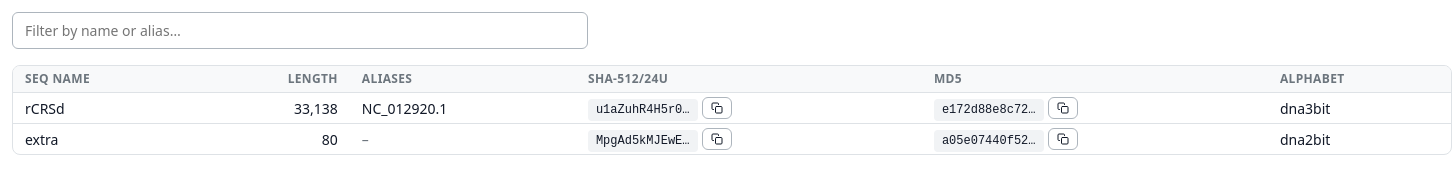
Test: SequenceTable › filters rows by alias
This screenshot has width=1452, height=172.
In the search field named "Filter sequences": {"x": 300, "y": 30} x1=12 y1=12 x2=588 y2=49, type "nc_0129"
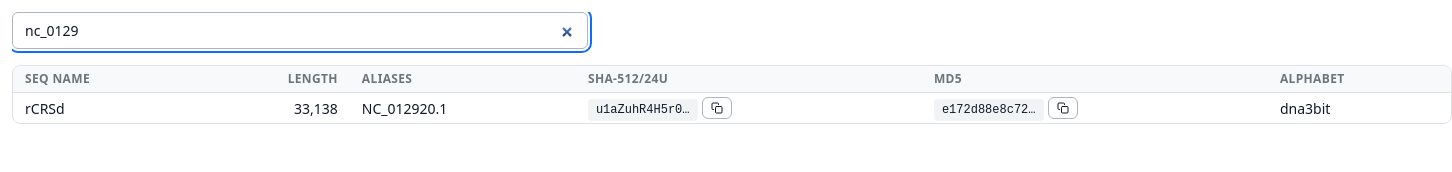
expect the text "NC_012920.1" is shown: met, box x1=362 y1=98 x2=447 y2=118
expect the text "extra" is gone: met
